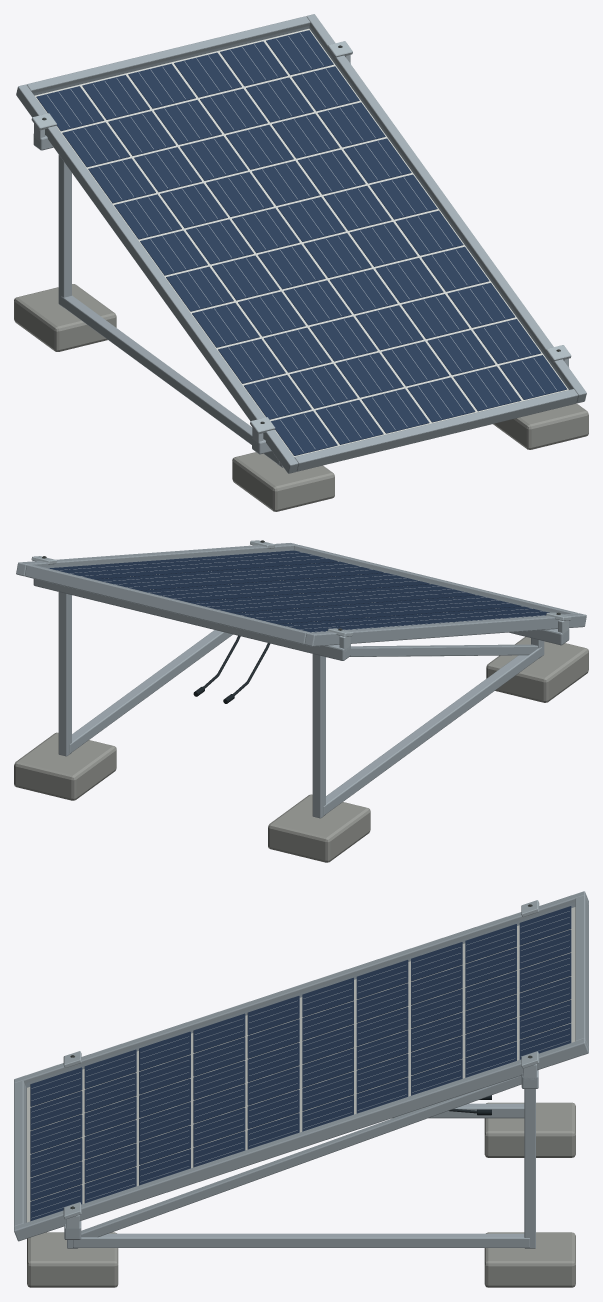
The model's file is city-solar-module-rack.glb.
3 views of the same model, one above another, from view 1: azimuth 30°, elevation 25°; view 2: azimuth 150°, elevation 25°; view 3: azimuth 270°, elevation 25° (orthographic). The views are drawn at different scales.
Parts seen in each view (by area): view 1: Module silicon cell array / static, Module aluminum perimeter, Solar backsheet, Module conductor array / static, Rack ballast foot, Rack ballast foot.002, Rack longitudinal base, Rack ballast foot.001, Rack upright support.002; view 2: Module silicon cell array / static, Module aluminum perimeter, Rack ballast foot.002, Rack ballast foot.003, Rack longitudinal base, Rack ballast foot, Module conductor array / static, Rack longitudinal base.001, Crosswise module support rail.001, Rack upright support.003, Rack upright support.002, Rack diagonal strut (+1 smaller); view 3: Module silicon cell array / static, Module aluminum perimeter, Module conductor array / static, Solar backsheet, Rack longitudinal base.001, Rack diagonal strut.001, Rack ballast foot.003, Rack ballast foot.001, Rack ballast foot.002, Rack upright support.003, Rack longitudinal base.
Boxes of the visible parts, x1,y1,x2,y2 form: Module silicon cell array / static: (36,30,567,455); Module aluminum perimeter: (16,14,586,473); Solar backsheet: (34,28,568,457); Module conductor array / static: (47,33,556,452); Rack ballast foot: (232,452,334,511); Rack ballast foot.002: (14,284,116,351); Rack longitudinal base: (61,295,279,464); Rack ballast foot.001: (493,403,588,449); Rack upright support.002: (58,155,71,307); Module silicon cell array / static: (49,550,549,632); Module aluminum perimeter: (16,543,586,646); Rack ballast foot.002: (268,794,370,862); Rack ballast foot.003: (14,732,116,800); Rack longitudinal base: (323,647,541,815); Rack ballast foot: (486,636,588,702); Module conductor array / static: (57,552,544,632); Rack longitudinal base.001: (69,630,232,753); Crosswise module support rail.001: (33,579,350,660); Rack upright support.003: (58,592,71,756); Rack upright support.002: (312,654,325,818); Rack diagonal strut: (350,644,538,656); Module silicon cell array / static: (30,906,571,1221); Module aluminum perimeter: (14,891,588,1241); Module conductor array / static: (31,911,569,1218); Solar backsheet: (26,907,575,1222); Rack longitudinal base.001: (73,1233,529,1247); Rack diagonal strut.001: (81,1075,521,1237); Rack ballast foot.003: (484,1232,575,1287); Rack ballast foot.001: (27,1232,118,1287); Rack ballast foot.002: (484,1102,575,1157); Rack upright support.003: (524,1089,535,1248); Rack longitudinal base: (428,1103,524,1118).
Bounding box in the file's own units: 1.17 × 0.8158 × 1.76.
